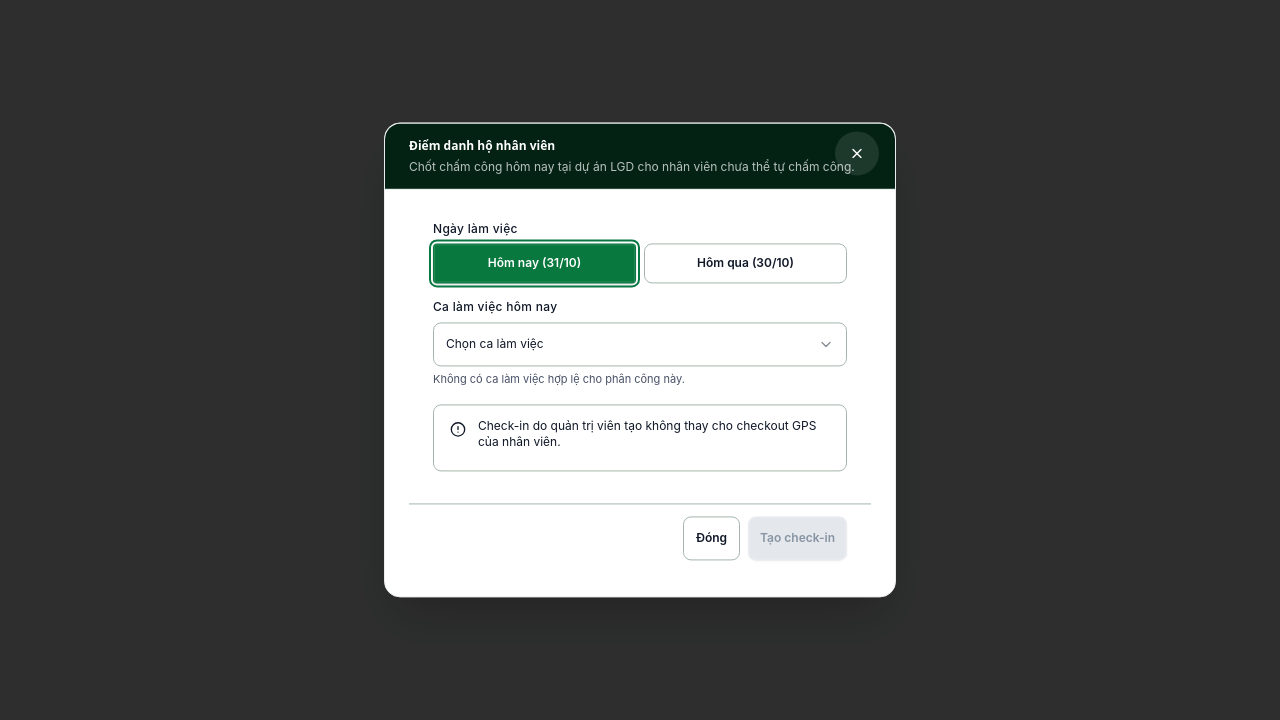
Scenario: CheckInMarkAttendanceDialog › allows switching work date to yesterday to mark a missed shift
Click the button "Hôm qua (30/10)".
click(746, 264)  # box x1=644 y1=244 x2=847 y2=284
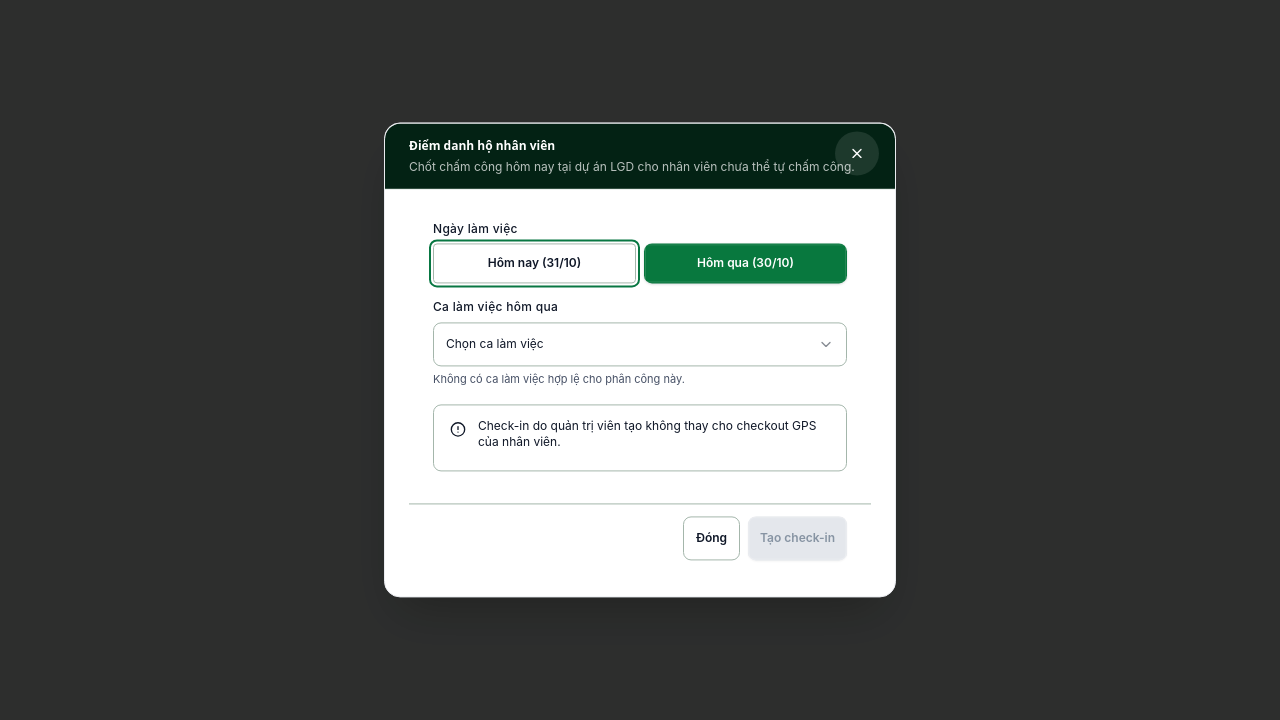
Result: the text "Ca làm việc hôm qua" is shown at x1=433 y1=300 x2=558 y2=315
